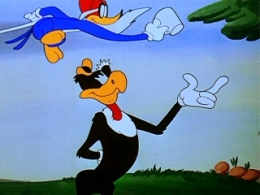picapau: (2, 1, 166, 64)
urubu: (72, 55, 229, 195)
